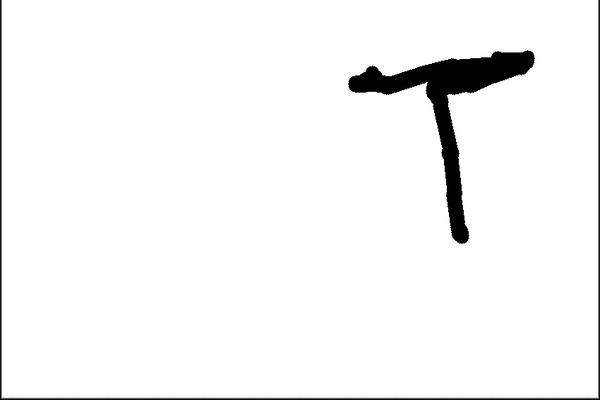T: (346, 48, 546, 256)
